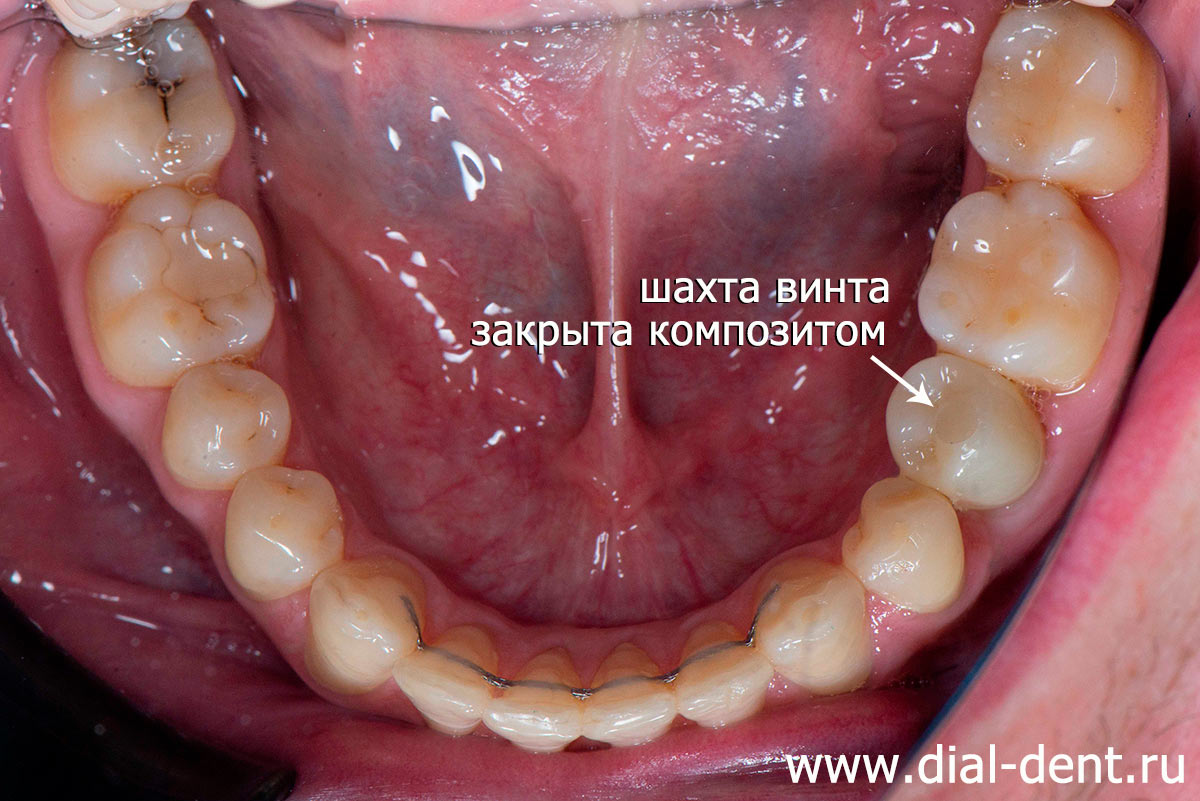LL1BC_decay: (843, 476, 964, 613)
LL1M_decay: (918, 183, 1117, 388)
LL2BC_healthy: (887, 406, 1043, 508)
LL2M_decay: (966, 8, 1149, 191)
LLCI_decay: (583, 642, 675, 744)
LLC_decay: (757, 563, 868, 689)
LLLI_decay: (676, 625, 769, 726)
LR1BC_decay: (225, 469, 342, 597)
LR1M_decay: (85, 188, 270, 383)
LR2BC_decay: (161, 363, 287, 491)
LR2M_decay: (49, 37, 233, 196)
LRCI_decay: (492, 651, 580, 752)
LRC_decay: (308, 558, 420, 694)
LRLI_decay: (396, 624, 492, 733)
